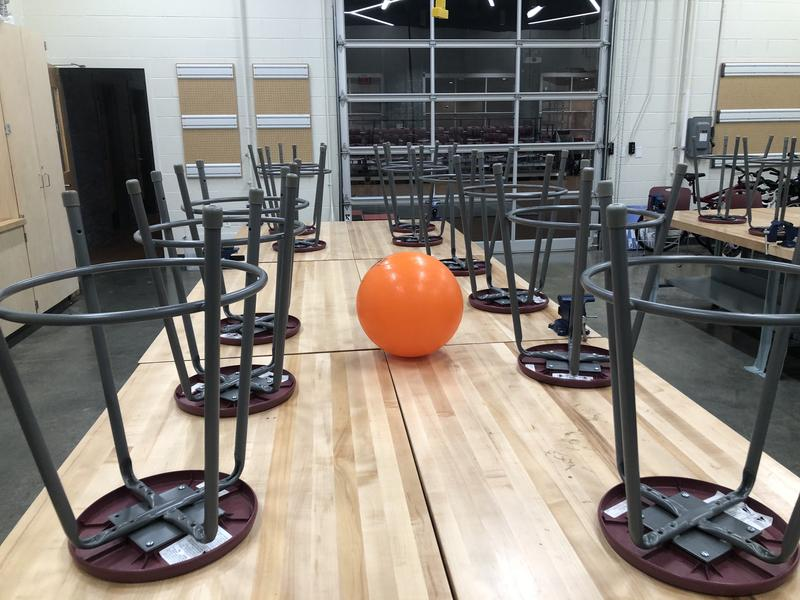ball: (358, 250, 463, 357)
